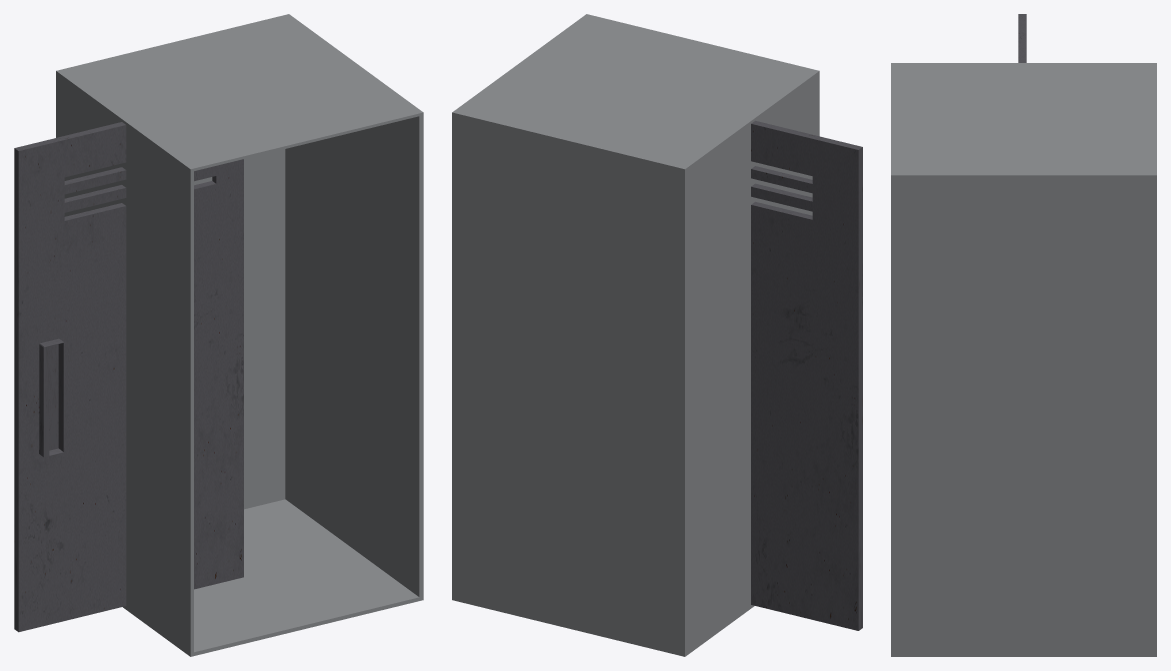
File: Locker_color.fbx
3 views of the same model, side by side, from view 1: azimuth 30°, elevation 25°; view 2: azimuth 150°, elevation 25°; view 3: azimuth 270°, elevation 25° (orthographic).
Parts seen in each view (by area): view 1: pCube1, pCube19; view 2: pCube1, pCube19; view 3: pCube1, pCube19.
Part boxes in pixels (x1=…): pCube1: x1=56, y1=14, x2=423, y2=656; pCube19: x1=14, y1=122, x2=243, y2=632; pCube1: x1=452, y1=14, x2=819, y2=656; pCube19: x1=751, y1=120, x2=862, y2=630; pCube1: x1=891, y1=63, x2=1156, y2=656; pCube19: x1=1018, y1=14, x2=1026, y2=62.
Bounding box in the file's own units: 14.62 × 20 × 10.
2 materials, 2 textured.
